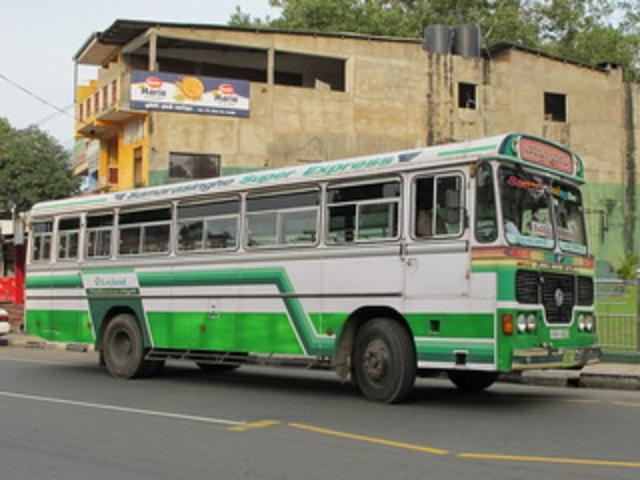bus: (24, 132, 602, 406)
